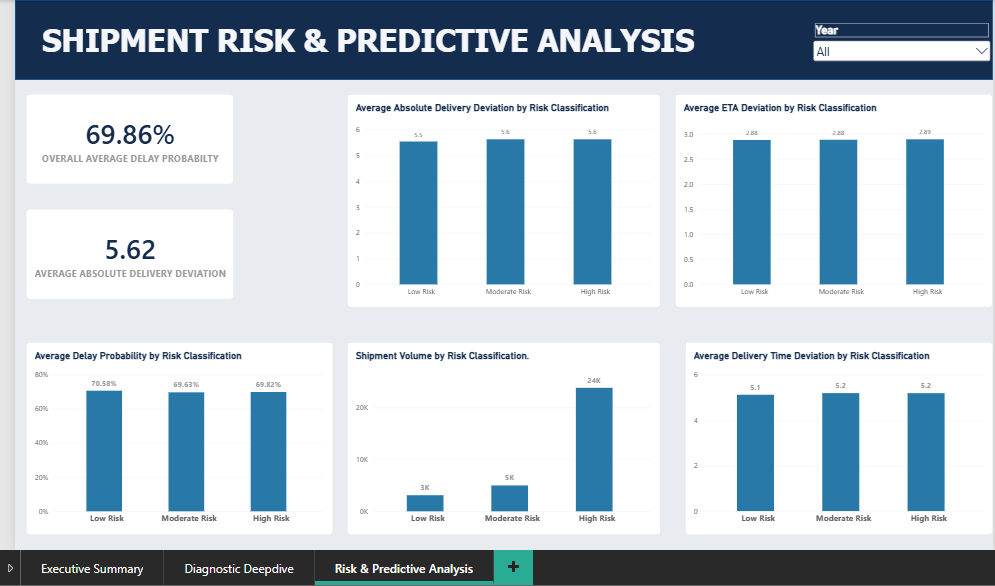

The dashboard page shown, as its layout file describes it:
{"tool":"powerbi","page":{"name":"Risk & Predictive Analysis","canvas":[1920,1080],"ordinal":2},"visuals":[{"type":"shape","box":[0,0,1920,156.9],"z":0},{"type":"clusteredColumnChart","title":"Average Delay Probability by Risk Classification","fields":{"Category":["cleaned_fleet_supply_chain.risk_classification"],"Y":["Avg(cleaned_fleet_supply_chain.delay_probability)"]},"box":[20.7,671.8,603.4,379.4],"z":1000},{"type":"clusteredColumnChart","title":"Shipment Volume by Risk Classification.","fields":{"Category":["cleaned_fleet_supply_chain.risk_classification"],"Y":["CountNonNull(cleaned_fleet_supply_chain.timestamp)"]},"box":[651.1,671.8,615.8,379.4],"z":2000},{"type":"slicer","fields":{"Values":["cleaned_fleet_supply_chain.Year"]},"box":[1562.8,45.4,357.2,97],"z":3000},{"type":"cardVisual","fields":{"Data":["Avg(cleaned_fleet_supply_chain.delay_probability)"]},"box":[20.6,183.7,408.8,177.5],"z":4000},{"type":"clusteredColumnChart","title":"Average Delivery Time Deviation by Risk Classification","fields":{"Category":["cleaned_fleet_supply_chain.risk_classification"],"Y":["Avg(cleaned_fleet_supply_chain.delivery_time_deviation)"]},"box":[1315.6,671.6,604.8,379],"z":5000},{"type":"clusteredColumnChart","title":"Average ETA Deviation by Risk Classification","fields":{"Category":["cleaned_fleet_supply_chain.risk_classification"],"Y":["Avg(cleaned_fleet_supply_chain.eta_variation_hours)"]},"box":[1295.9,184.5,624.1,418.8],"z":6000},{"type":"clusteredColumnChart","title":"Average Absolute Delivery Deviation by Risk Classification","fields":{"Category":["cleaned_fleet_supply_chain.risk_classification"],"Y":["cleaned_fleet_supply_chain.Average Absolute Delivery Deviation"]},"box":[651.1,184.5,615.8,418.8],"z":7000},{"type":"cardVisual","fields":{"Data":["cleaned_fleet_supply_chain.Average Absolute Delivery Deviation"]},"box":[20.7,410.5,408.8,177.5],"z":7001}]}

Visuals, with their boxes on the page's 1920x1080 design canvas (x1, y1, x2, y2). These are canvas units, not pixel positions in the 995x586 screenshot, which may show the page scaled, cropped or inside an application window:
shape: rect(0, 0, 1920, 157)
"Average Delay Probability by Risk Classification" clusteredColumnChart: rect(21, 672, 624, 1051)
"Shipment Volume by Risk Classification." clusteredColumnChart: rect(651, 672, 1267, 1051)
slicer - cleaned_fleet_supply_chain.Year: rect(1563, 45, 1920, 142)
cardVisual - Avg(cleaned_fleet_supply_chain.delay_probability): rect(21, 184, 429, 361)
"Average Delivery Time Deviation by Risk Classification" clusteredColumnChart: rect(1316, 672, 1920, 1051)
"Average ETA Deviation by Risk Classification" clusteredColumnChart: rect(1296, 184, 1920, 603)
"Average Absolute Delivery Deviation by Risk Classification" clusteredColumnChart: rect(651, 184, 1267, 603)
cardVisual - cleaned_fleet_supply_chain.Average Absolute Delivery Deviation: rect(21, 410, 430, 588)
